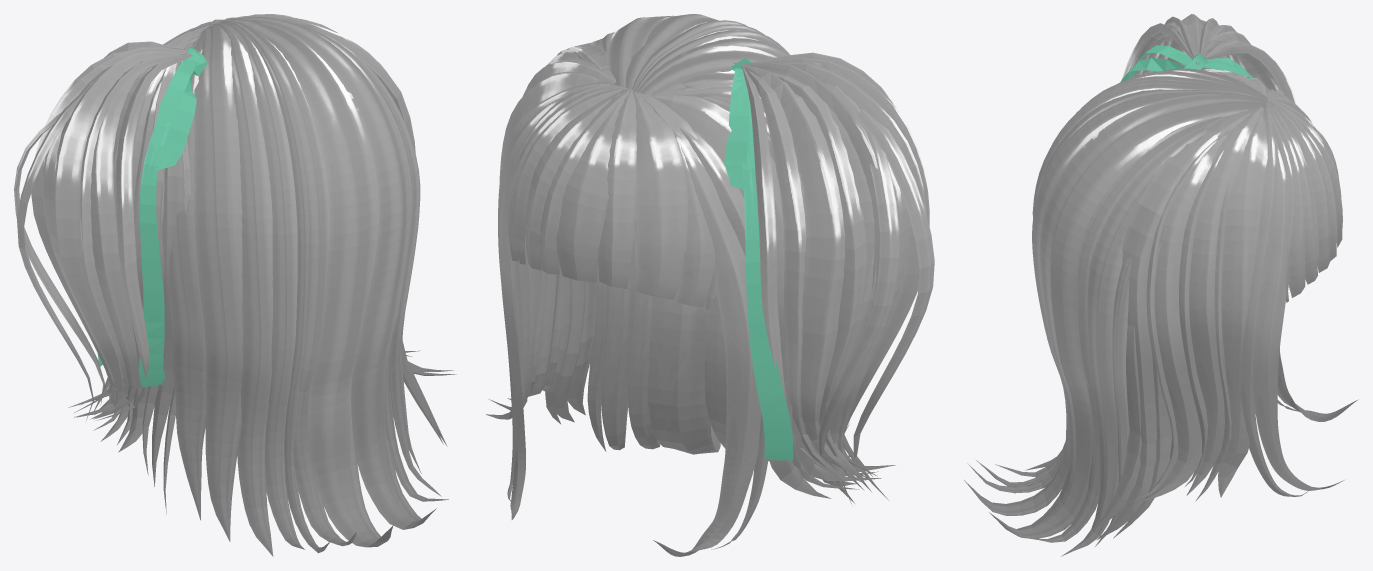
File: hair-masculine-sidePony.glb
3 renders of one model, left to right at view 1: azimuth 30°, elevation 25°; view 2: azimuth 150°, elevation 25°; view 3: azimuth 270°, elevation 25°, orthographic. The views are drawn at different scales.
Visible parts, largest first — view 1: hair-sidePony; view 2: hair-sidePony; view 3: hair-sidePony.
Part boxes in pixels (x1,y1,x2,y2): hair-sidePony: (14, 14, 456, 556); hair-sidePony: (485, 14, 934, 556); hair-sidePony: (964, 14, 1358, 556).
Bounding box in the file's own units: 0.3328 × 0.3581 × 0.2985.
4 materials, 4 textured.
